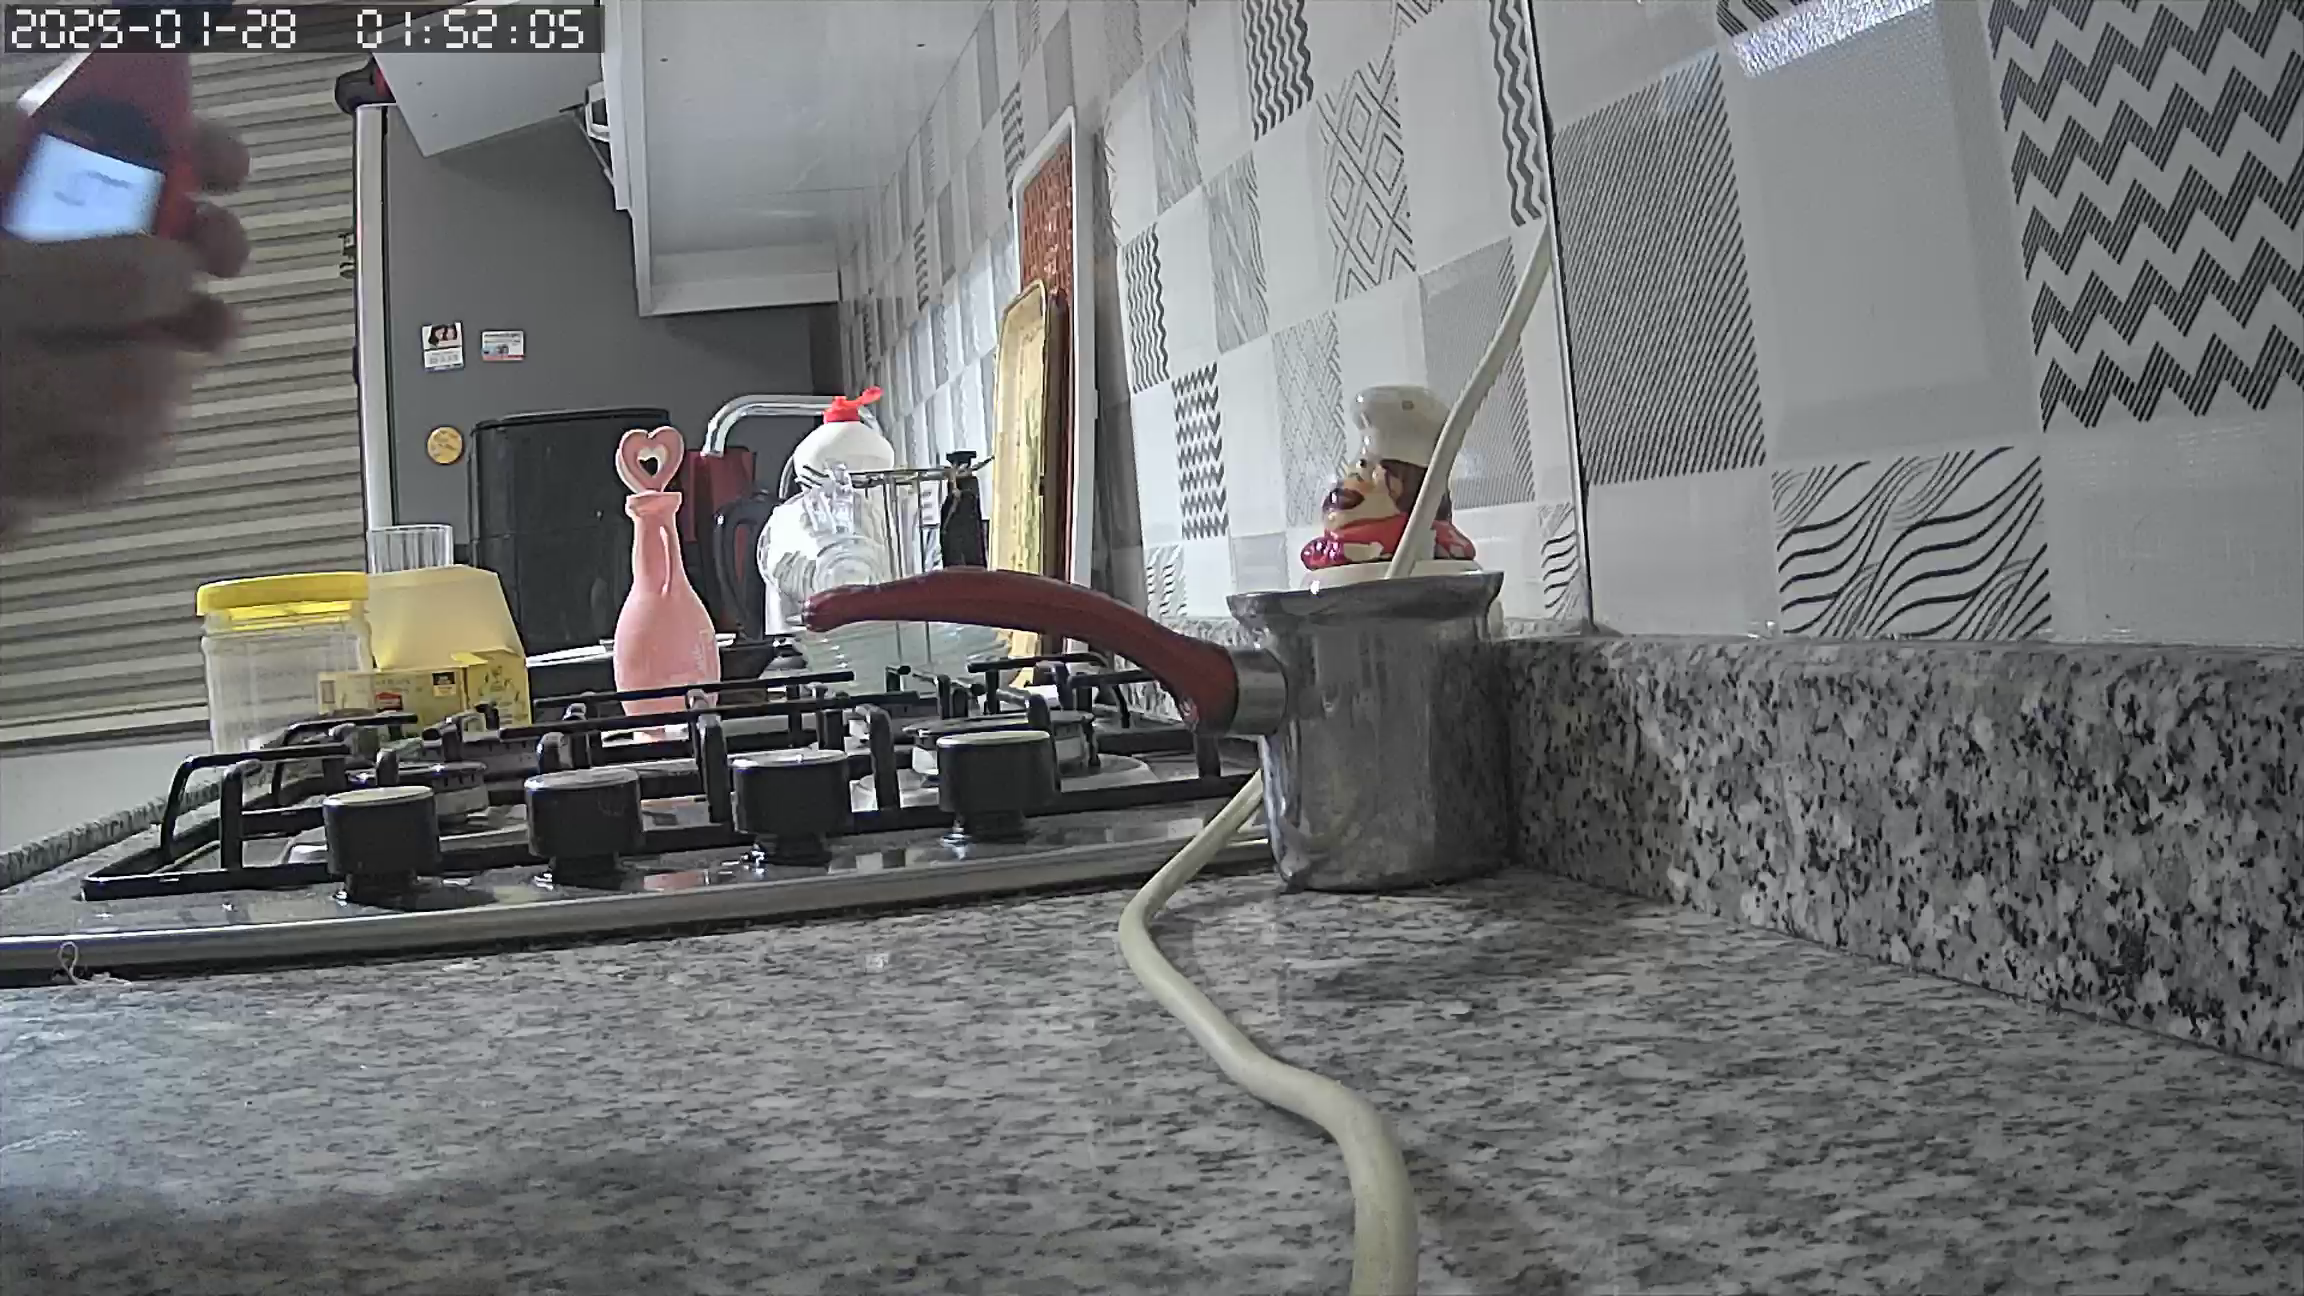screen: (6, 135, 165, 245)
